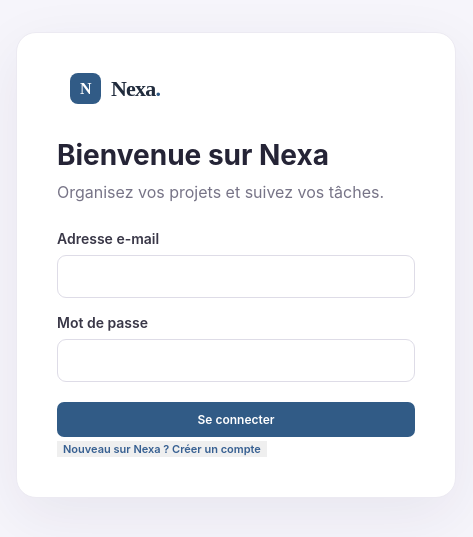
Test case: session integration in App › shows an authentication error when login is refused
Expected: the heading "Bienvenue sur Nexa" is shown, [57, 138, 329, 172]
In the field labelled "Adresse e-mail": {"x": 236, "y": 276} [57, 255, 415, 298], type "ada@example.test"
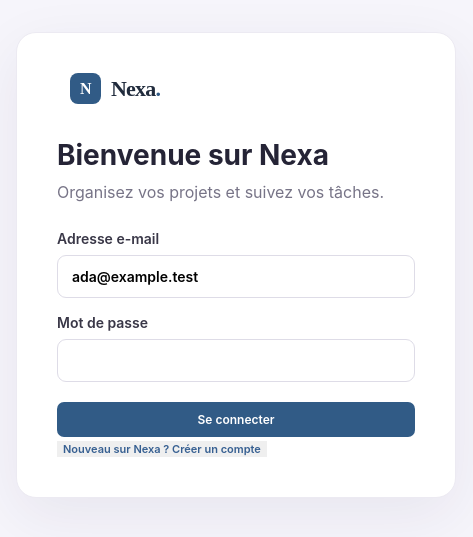
In the password field labelled "Mot de passe": {"x": 236, "y": 360} [57, 339, 415, 382], type "password123"
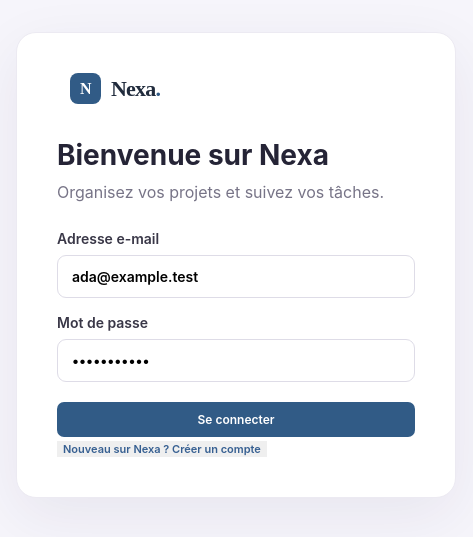
Click the button "Se connecter": {"x": 236, "y": 420} [57, 402, 415, 437]
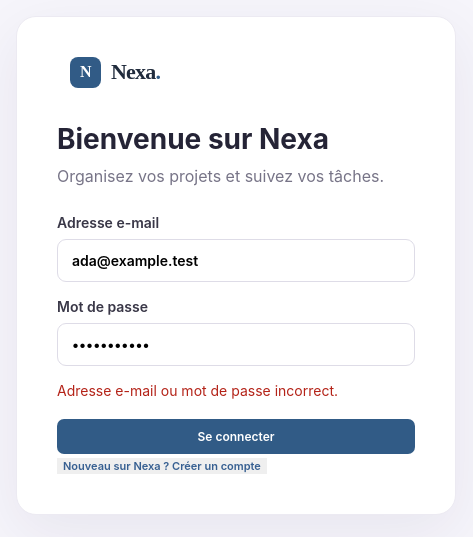
Expected: the message reads "Adresse e-mail ou mot de passe incorrect.", [57, 382, 338, 398]
